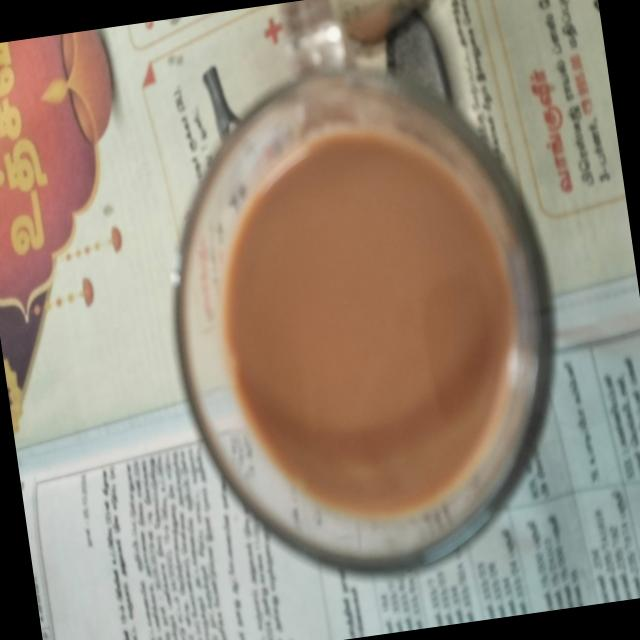glass-VX4N: (123, 0, 589, 603)
